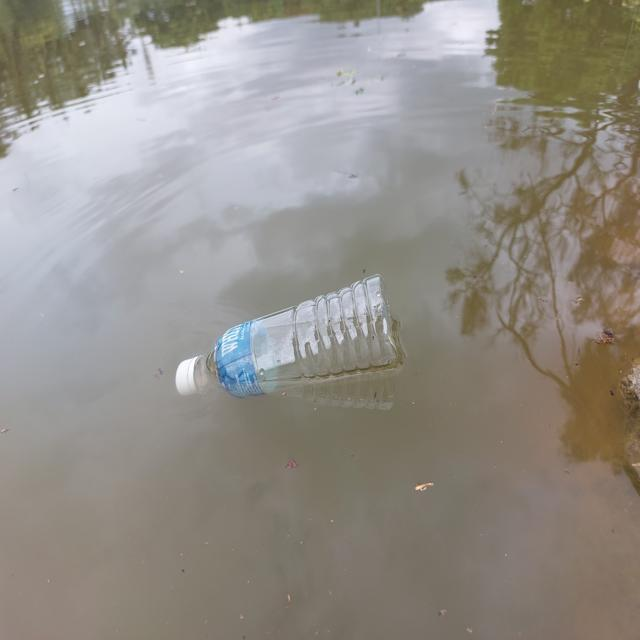waterbottle: (138, 273, 412, 421)
